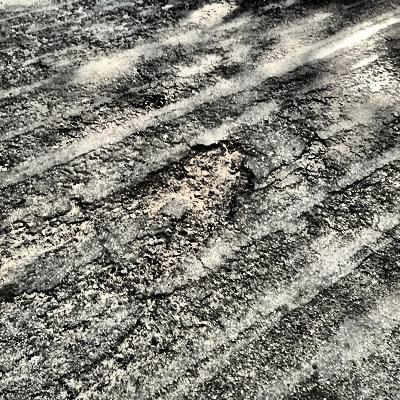pothole: (123, 136, 258, 271)
